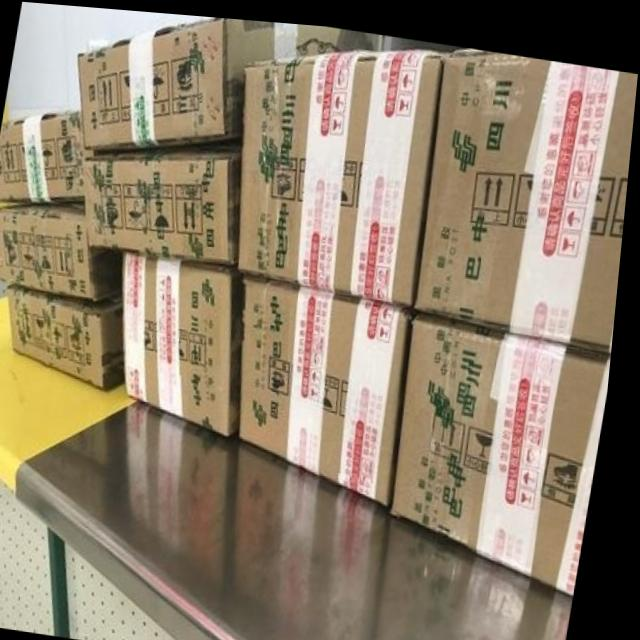box: (419, 41, 638, 341), (402, 304, 617, 584), (242, 43, 442, 300), (77, 14, 380, 148), (247, 271, 417, 499), (127, 248, 247, 431), (86, 143, 243, 262), (0, 198, 127, 299), (12, 283, 132, 387), (0, 105, 98, 204)
